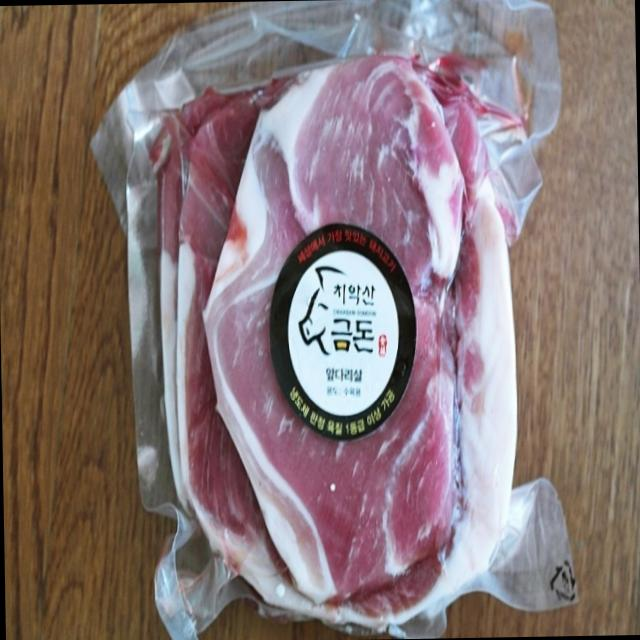pork: (117, 32, 544, 626)
